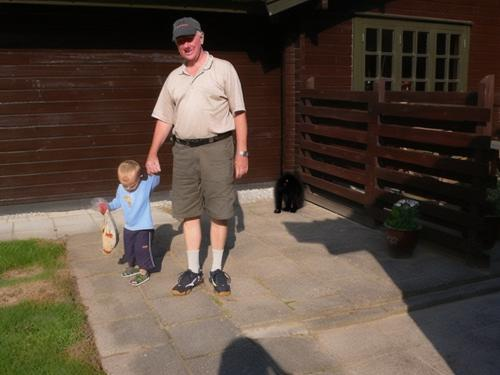cat: (273, 173, 307, 213)
person: (146, 17, 252, 303), (93, 159, 160, 291)
person/foot: (171, 271, 205, 297), (209, 270, 230, 296), (129, 272, 149, 285)
person/hand: (235, 156, 249, 180), (145, 156, 161, 175), (146, 161, 161, 175), (121, 266, 139, 276)
person/head: (173, 17, 203, 62), (118, 160, 139, 192)
pottedplant: (383, 197, 429, 262)
